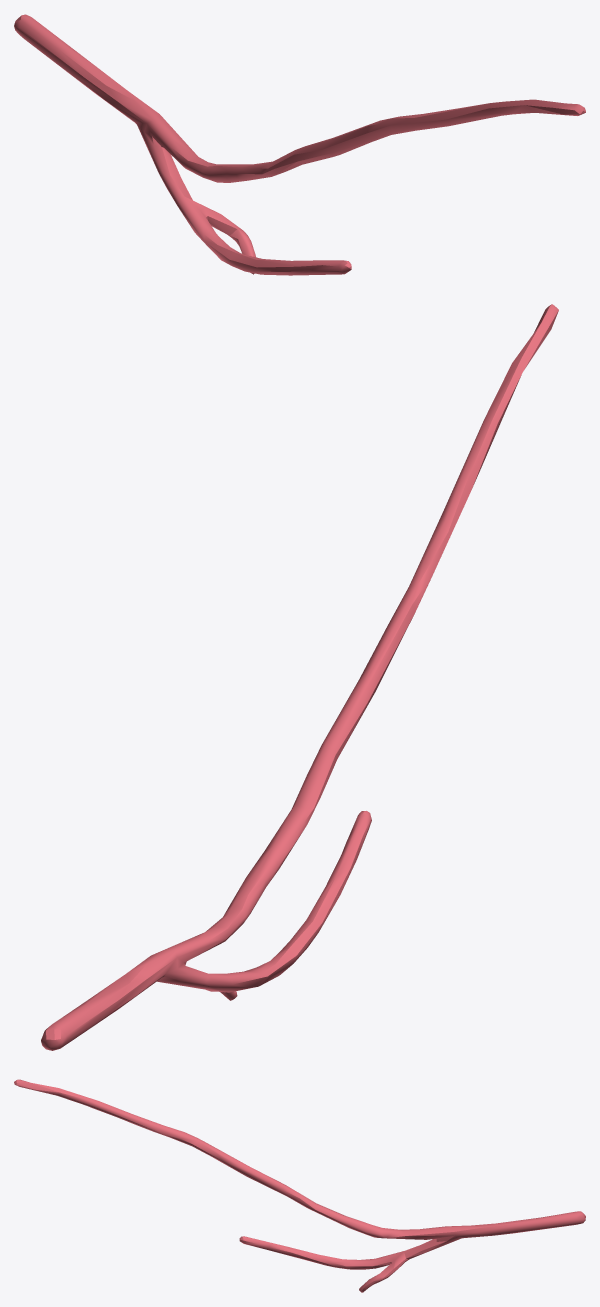
The model's file is fma50837_fj5191.glb.
The picture shows the model from 3 angles, top to bottom: view 1: azimuth 30°, elevation 25°; view 2: azimuth 150°, elevation 25°; view 3: azimuth 270°, elevation 25°; orthographic projection. The views are drawn at different scales.
Parts seen in each view (by area): view 1: FMA50837_FJ5191; view 2: FMA50837_FJ5191; view 3: FMA50837_FJ5191.
Part boxes in pixels (x1,y1,x2,y2): FMA50837_FJ5191: (14,14,585,275); FMA50837_FJ5191: (41,304,558,1050); FMA50837_FJ5191: (14,1079,585,1292).
Bounding box in the file's own units: 0.00273 × 0.0142 × 0.0337.
